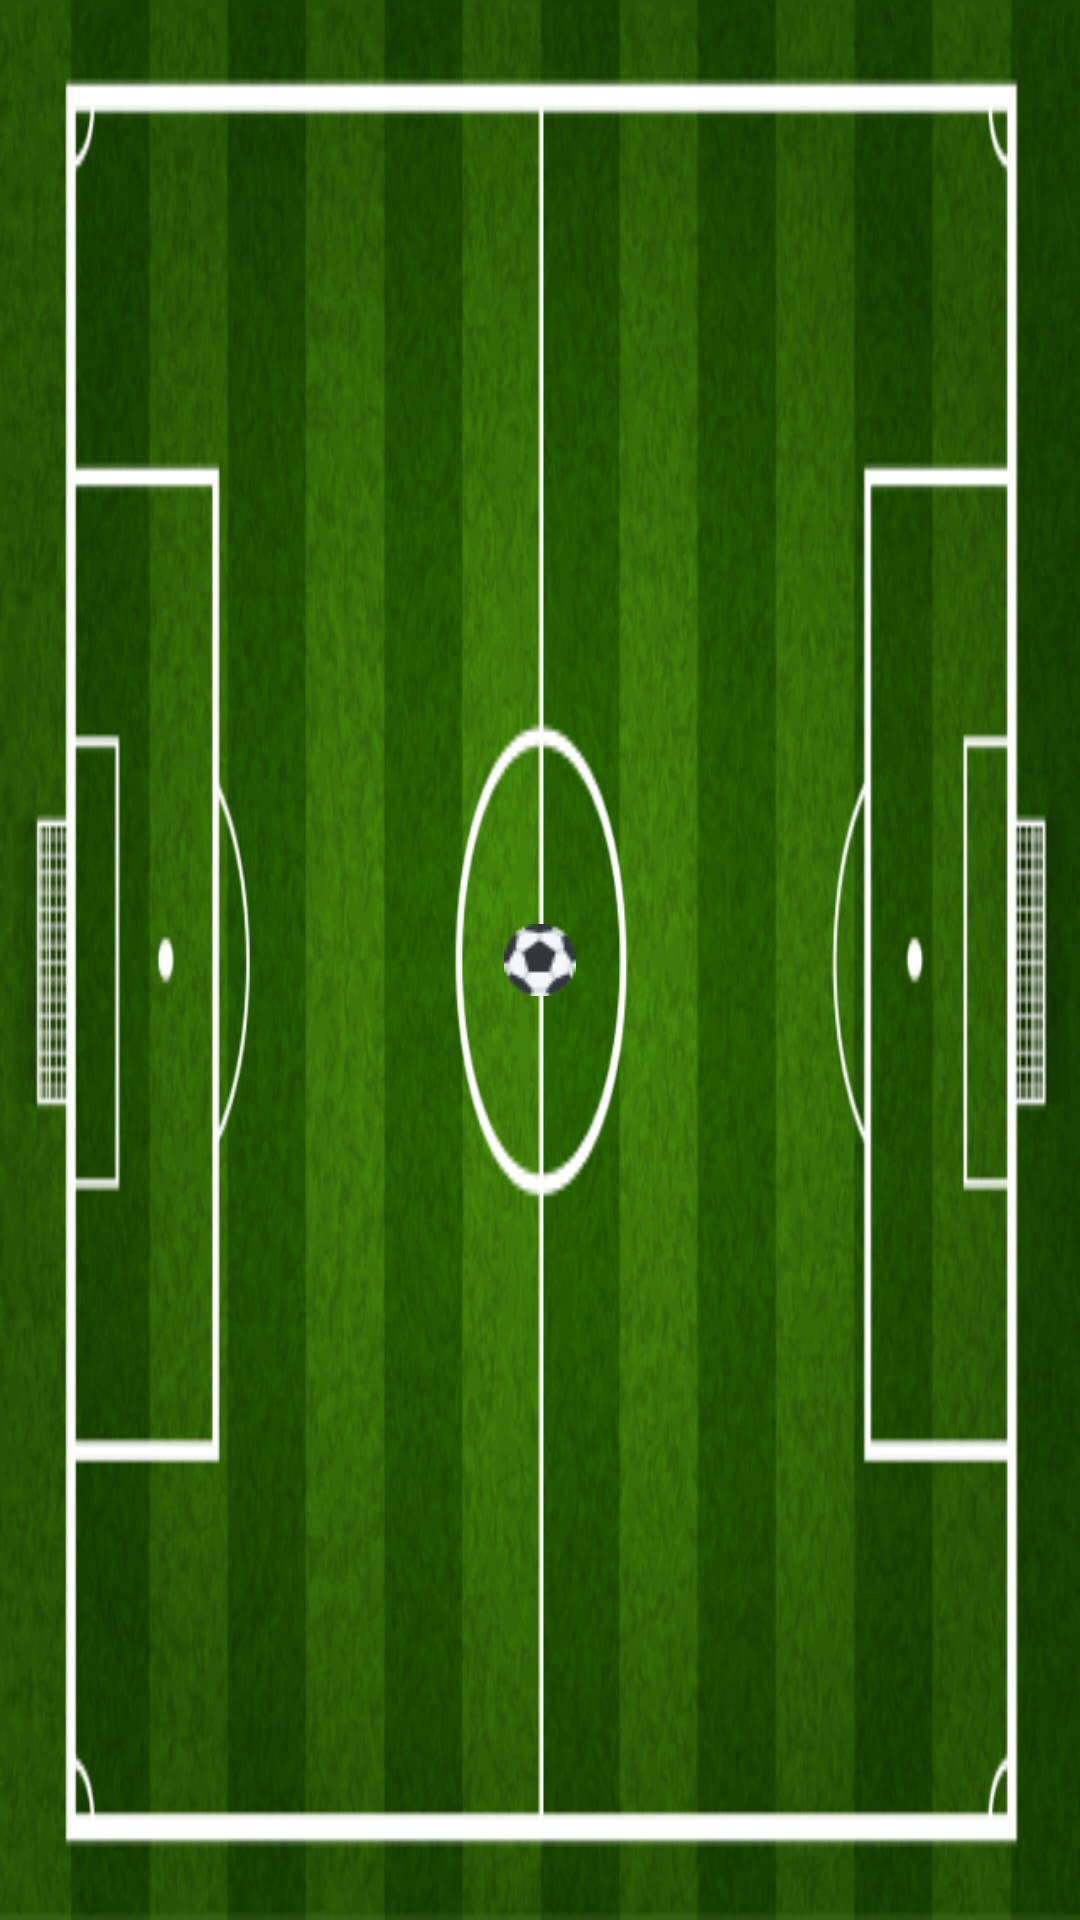

Where to tap for icons on this 1080w x 1920h app screen, as (x=x, y=y):
ball: (x=540, y=960)
